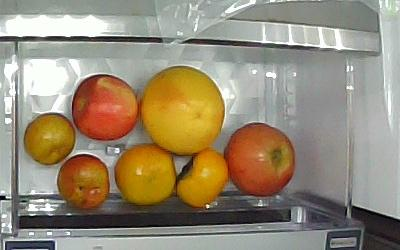apple: (226, 123, 296, 198), (73, 73, 140, 142)
grapefruit: (140, 66, 224, 156)
persimmon: (115, 144, 176, 205), (175, 149, 228, 208)
prune: (57, 154, 111, 210), (24, 113, 76, 167)
